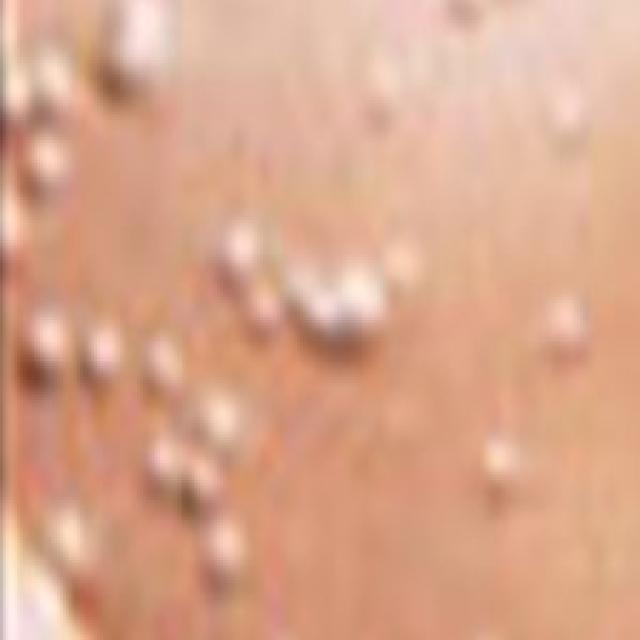Eczema: (0, 0, 609, 623)
